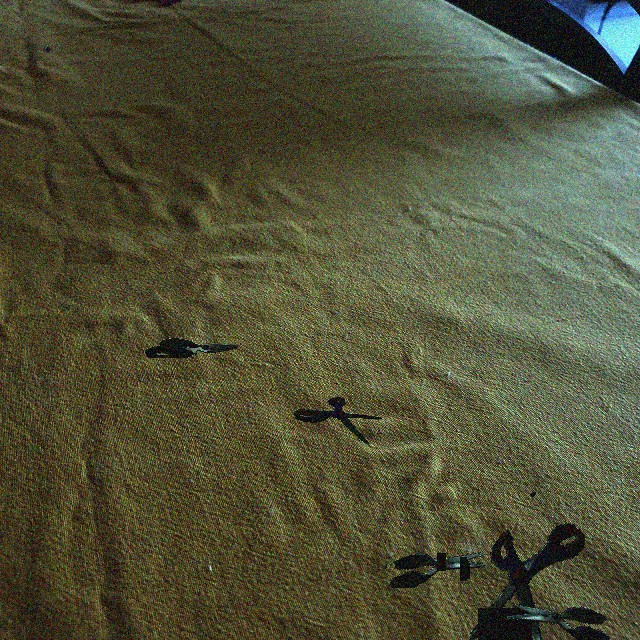scissors: (463, 492, 585, 640), (294, 397, 382, 444), (506, 603, 613, 640), (385, 552, 486, 588), (145, 338, 238, 358)
